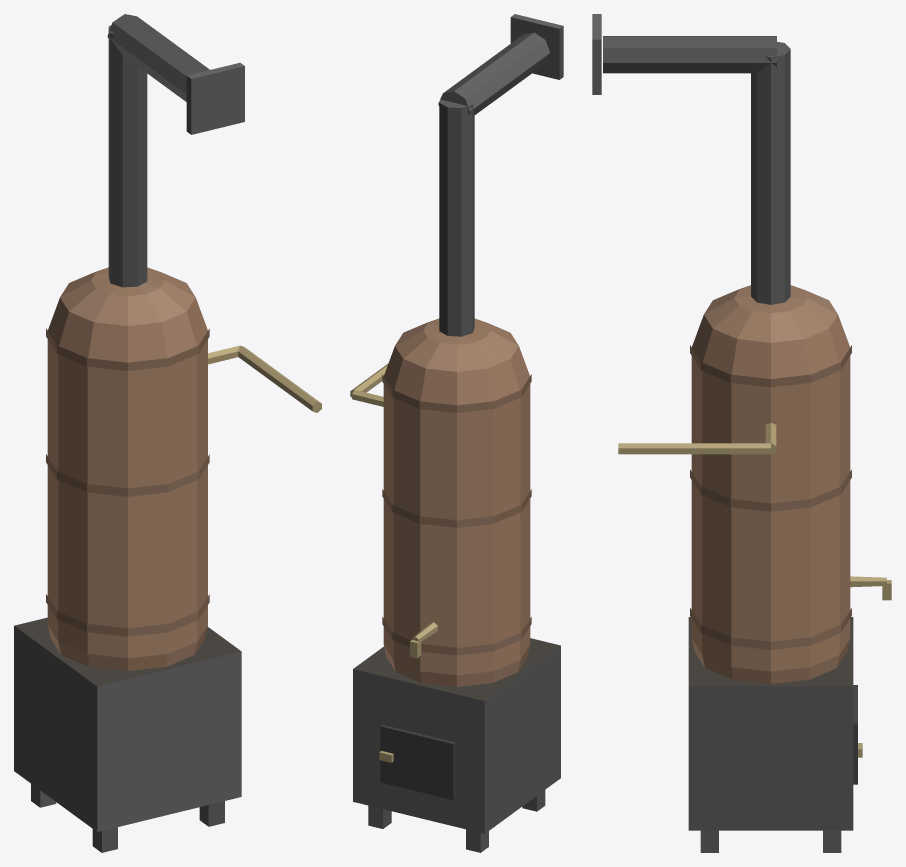
The model's file is boiler_badeofen.glb.
The picture shows the model from 3 angles, left to right: view 1: azimuth 30°, elevation 25°; view 2: azimuth 150°, elevation 25°; view 3: azimuth 270°, elevation 25°; orthographic projection. The views are drawn at different scales.
Visible parts, largest first — view 1: kessel, ofen, rohr; view 2: kessel, ofen, rohr; view 3: kessel, ofen, rohr.
Boxes of the visible parts, box(x1,y1,x2,y2) form: kessel: box(46, 267, 209, 670); ofen: box(14, 617, 241, 852); rohr: box(107, 14, 321, 412); kessel: box(382, 318, 531, 686); ofen: box(353, 638, 560, 852); rohr: box(350, 14, 563, 658); kessel: box(690, 285, 851, 683); ofen: box(688, 617, 862, 852); rohr: box(592, 14, 891, 600).
Size of the model in its own units: 0.7073 by 2.88 by 0.98.
